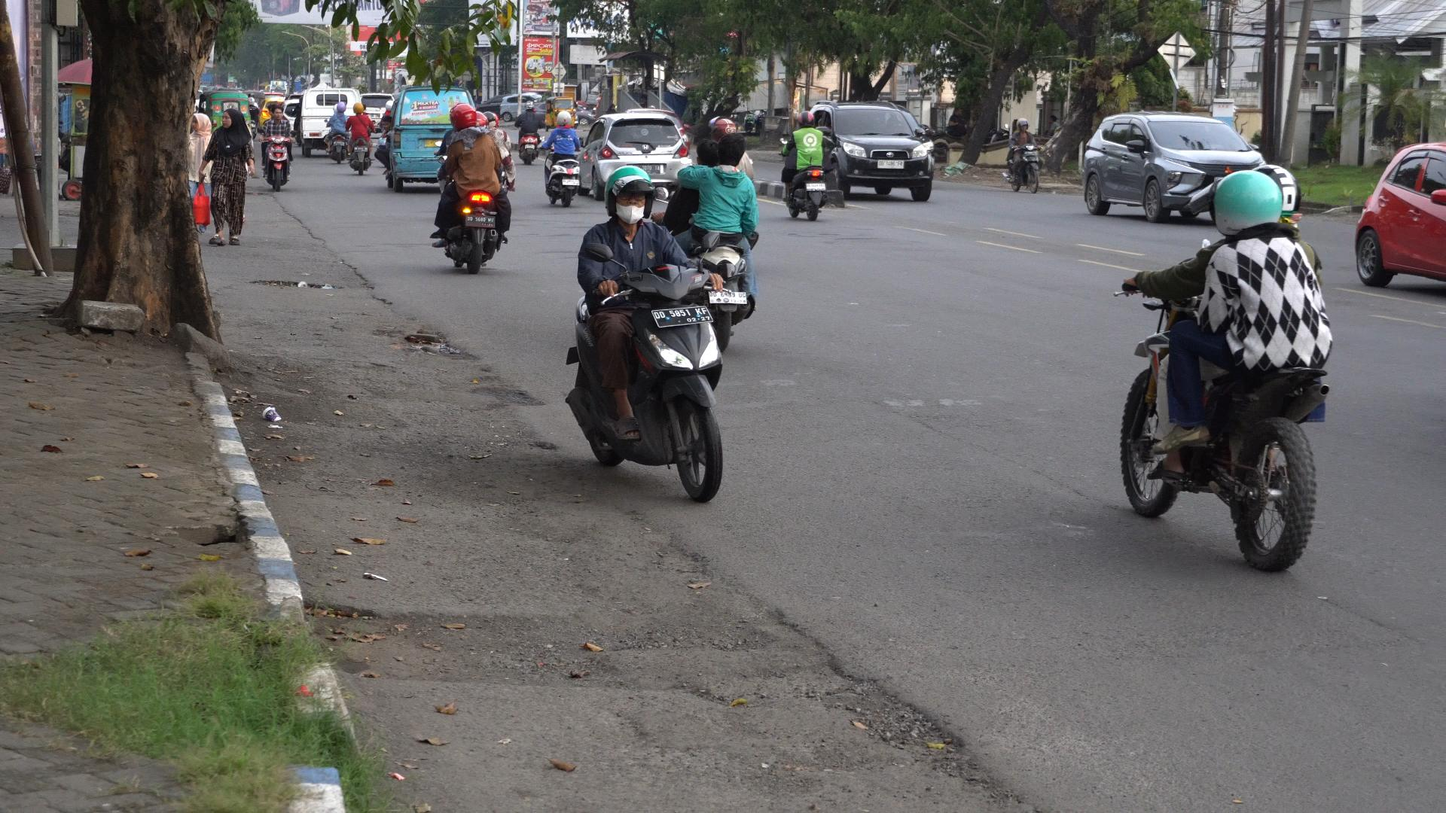number-plate: (653, 297, 711, 327)
